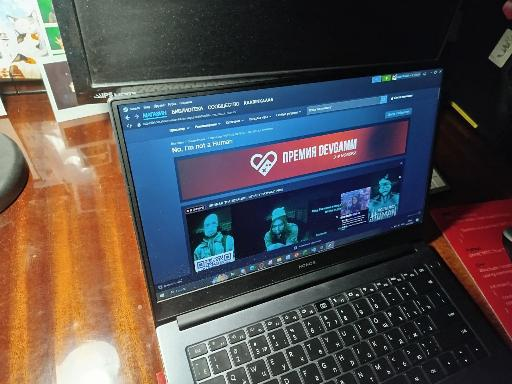steam: (103, 65, 454, 286)
